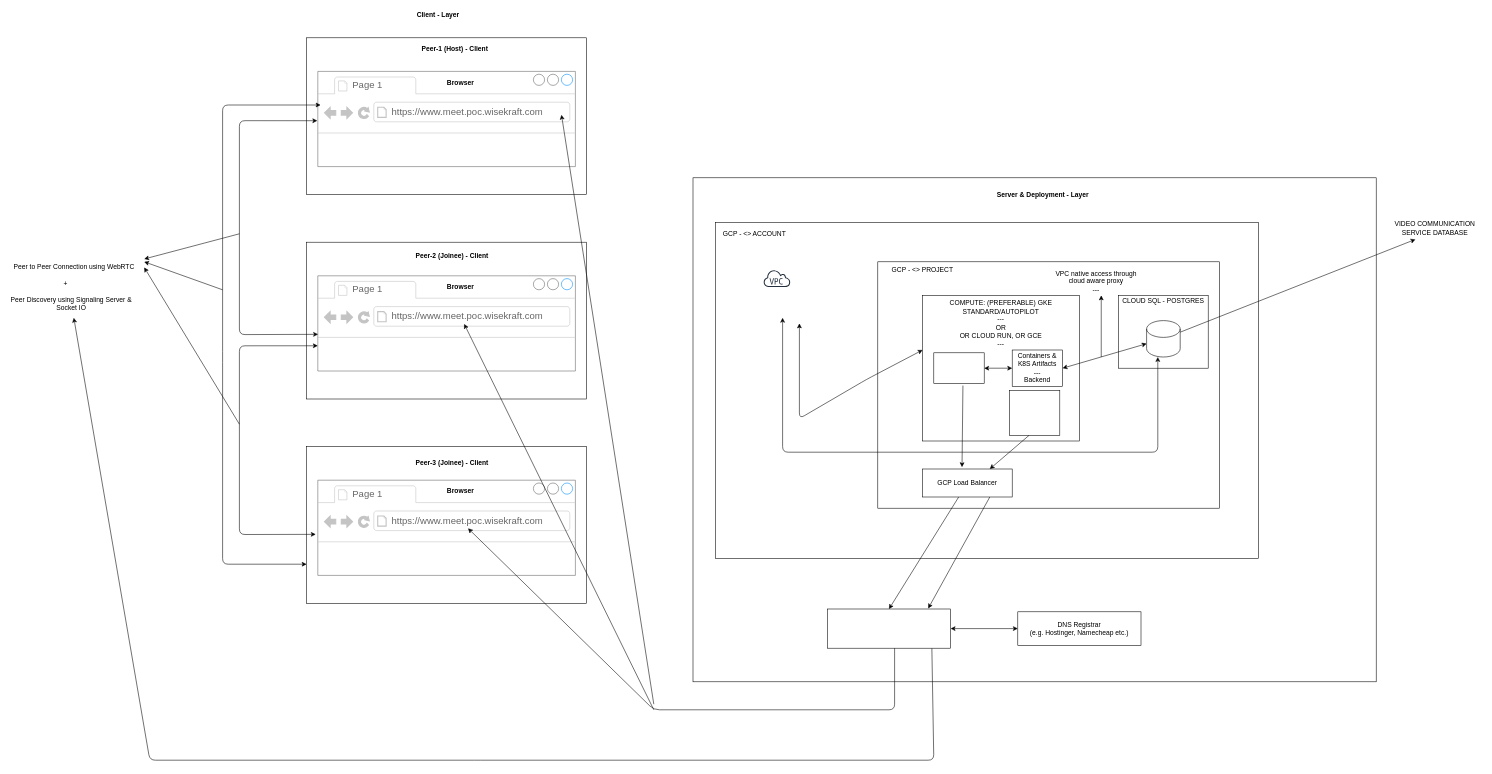
Some shapes in this 1492 by 774 pixel diagram are drawn without their labels. Each missing label, with the box of its shape:
Cloudflare (DNS Management): (827, 608, 951, 648)
Containers & K8S Artifacts --- Signaling Server: (1009, 390, 1060, 435)
Containers & K8S Artifacts --- UI: (933, 352, 984, 384)
CUSTOM VPC (e.g. VCENET) and SUBNETS: (760, 261, 794, 295)
VCSDB: (1146, 320, 1180, 357)
